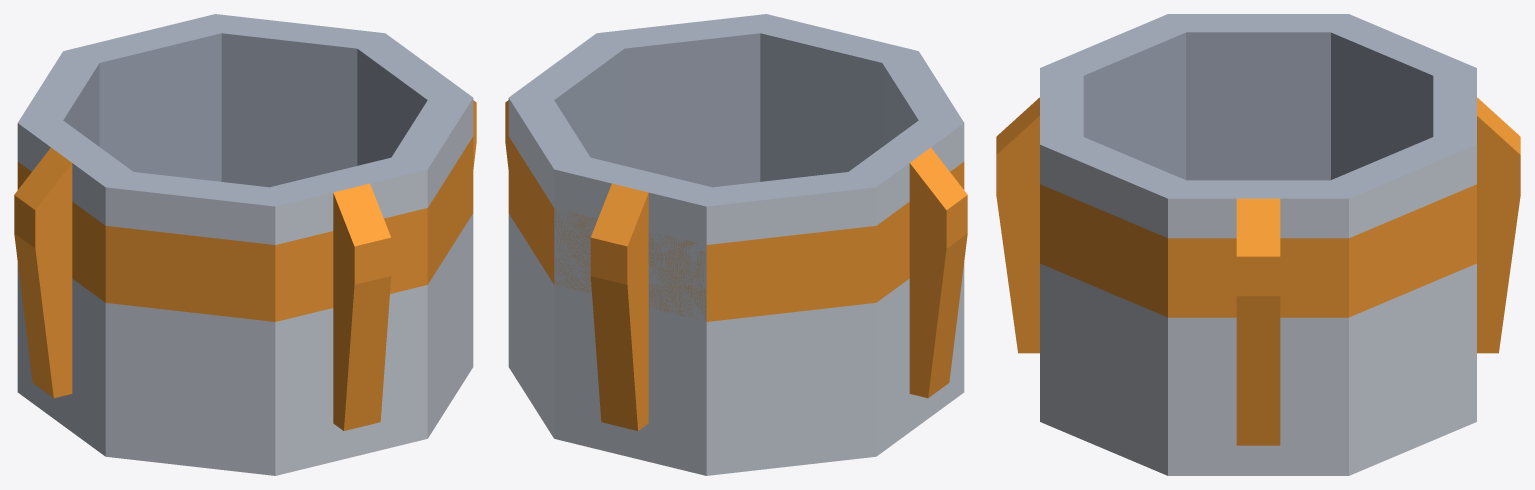
The model's file is rocket_finsB.dae.
The picture shows the model from 3 angles, left to right: view 1: azimuth 30°, elevation 25°; view 2: azimuth 150°, elevation 25°; view 3: azimuth 270°, elevation 25°; orthographic projection. The views are drawn at different scales.
Visible parts, largest first — view 1: rocket_finsB; view 2: rocket_finsB; view 3: rocket_finsB.
Boxes of the visible parts, bbox=[...] form: rocket_finsB: bbox=[14, 14, 476, 475]; rocket_finsB: bbox=[505, 14, 967, 475]; rocket_finsB: bbox=[996, 14, 1520, 475].
Size of the model in its own units: 1.2 by 0.7 by 1.2.
